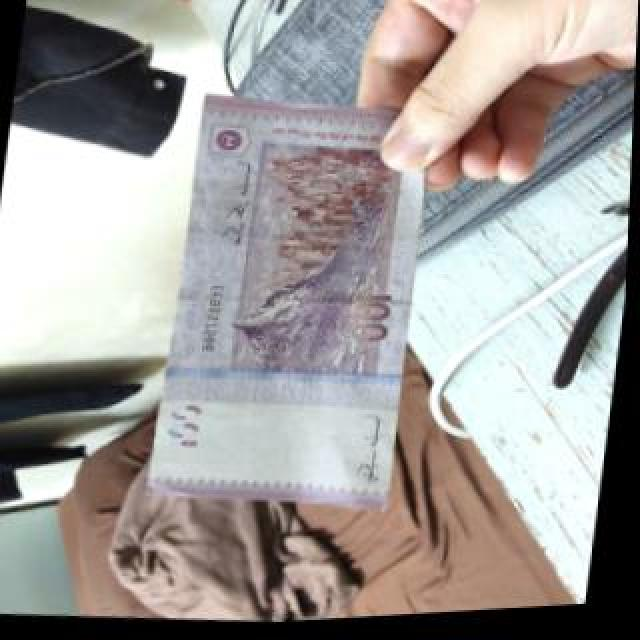100 Ringgit: (142, 86, 438, 605)
